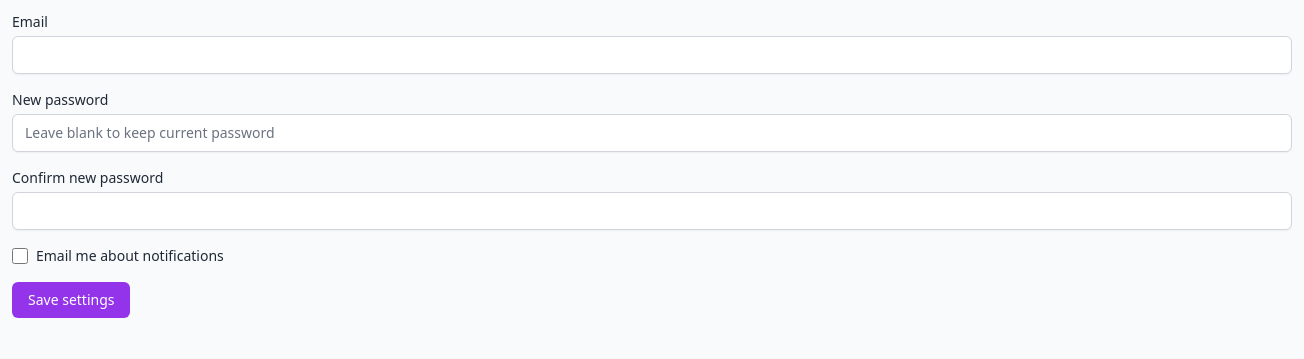
Test case: SettingsForm › shows a validation error after the email field is touched and left invalid
Type "not-an-email" into the field labelled "Email". click: (652, 55)
box: [12,36,1292,74]
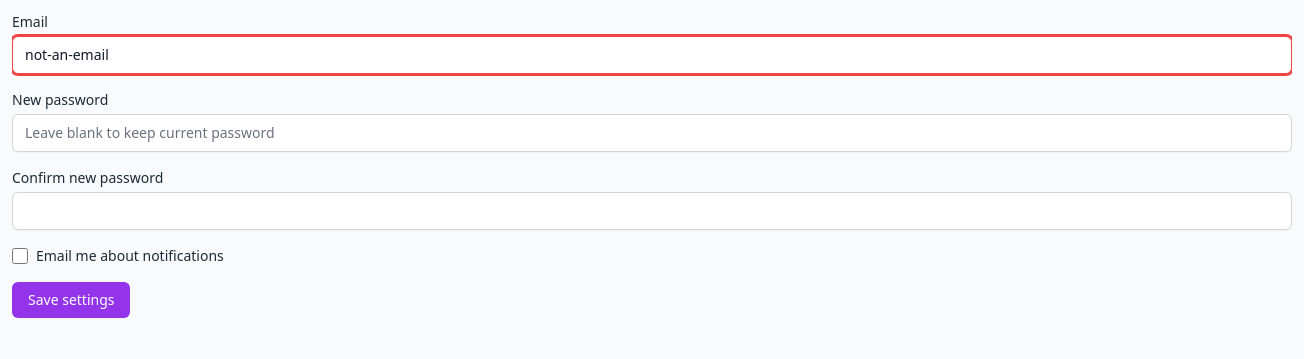
Press Tab
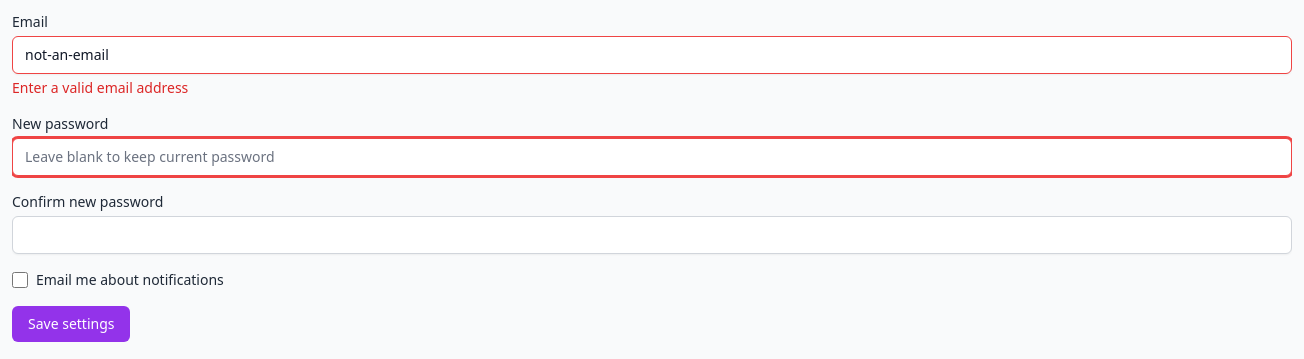
Now the text "Enter a valid email address" is shown, box [12,78,188,97]
